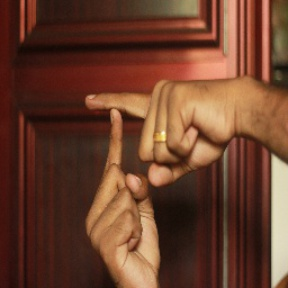T: (71, 73, 172, 214)
